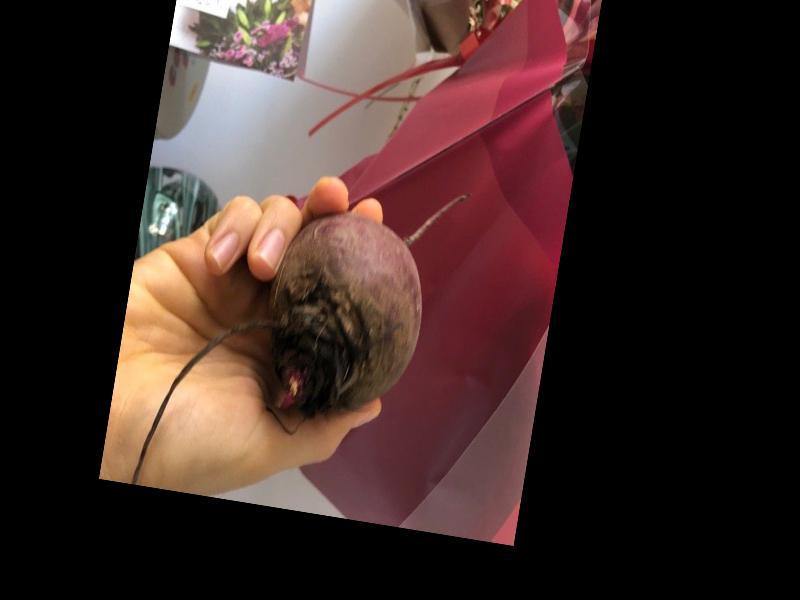Beet: (131, 145, 470, 526)
